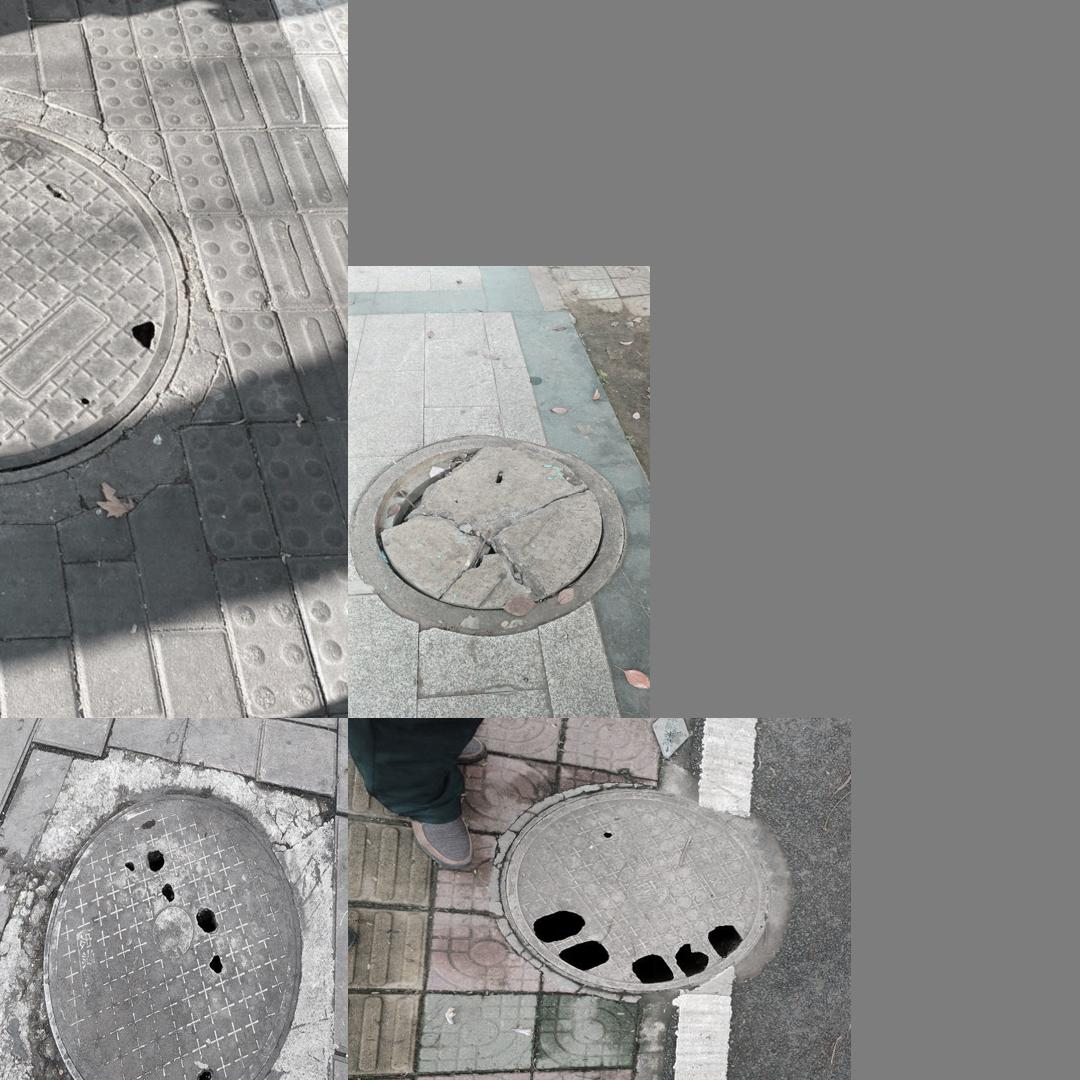broke: (41, 795, 300, 1080), (0, 109, 190, 488), (488, 778, 797, 1004), (350, 435, 624, 638)
